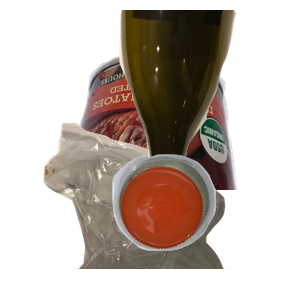glass: (117, 10, 300, 190)
metal: (62, 47, 300, 227)
plastic: (110, 152, 300, 300)
trash: (41, 120, 276, 300)
